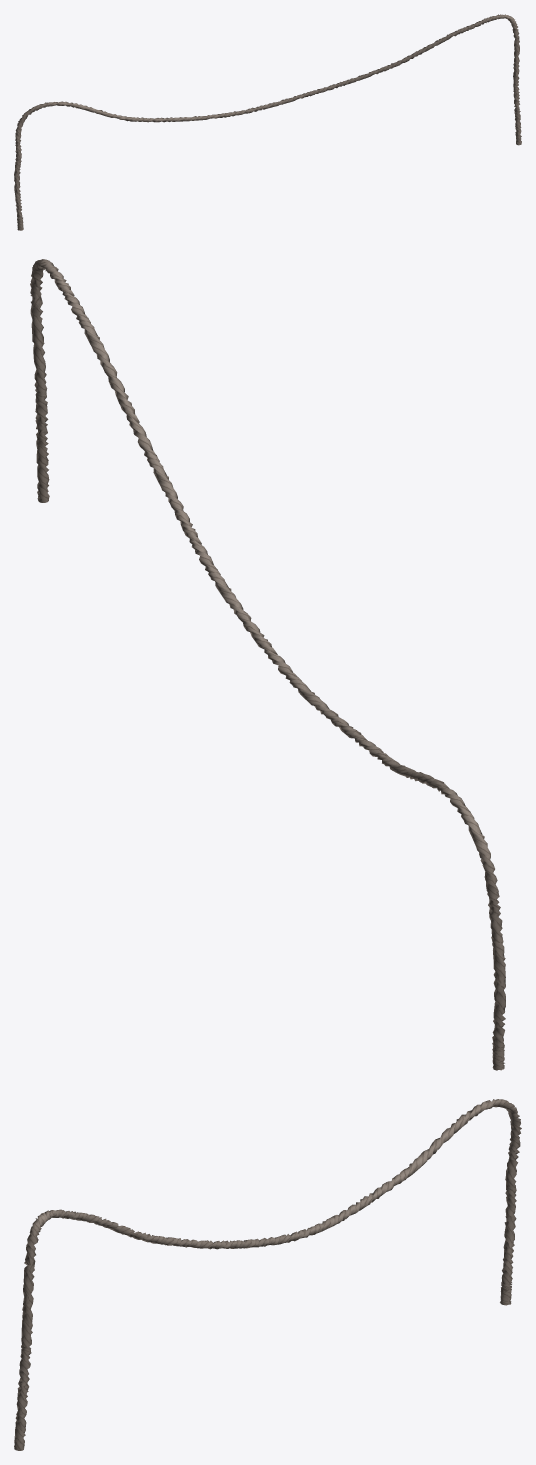
File: SM_RopeSplineMesh_Splines_20.fbx
The picture shows the model from 3 angles, top to bottom: view 1: azimuth 30°, elevation 25°; view 2: azimuth 150°, elevation 25°; view 3: azimuth 270°, elevation 25°; orthographic projection. The views are drawn at different scales.
Parts seen in each view (by area): view 1: SM_RopeSplineMesh_Splines_20; view 2: SM_RopeSplineMesh_Splines_20; view 3: SM_RopeSplineMesh_Splines_20.
Part boxes in pixels (x1,y1,x2,y2): SM_RopeSplineMesh_Splines_20: [14, 14, 521, 230]; SM_RopeSplineMesh_Splines_20: [30, 259, 505, 1070]; SM_RopeSplineMesh_Splines_20: [14, 1099, 521, 1450].
Size of the model in its own units: 284 by 188 by 163.
